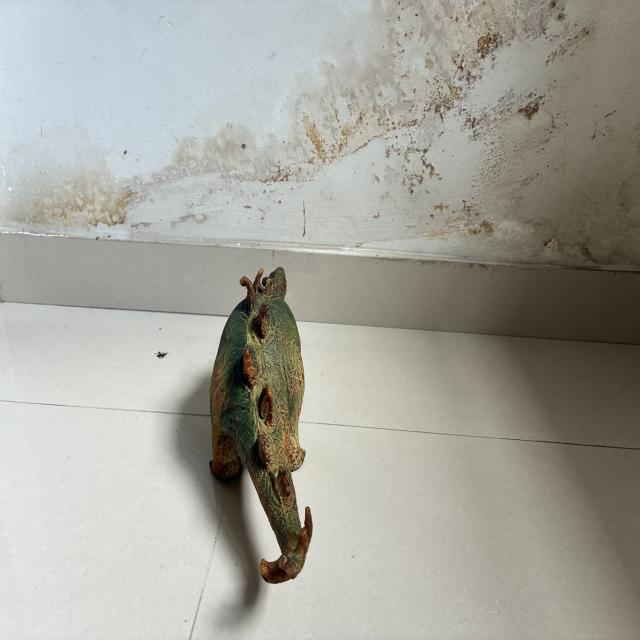dinosaur: (210, 267, 313, 584)
